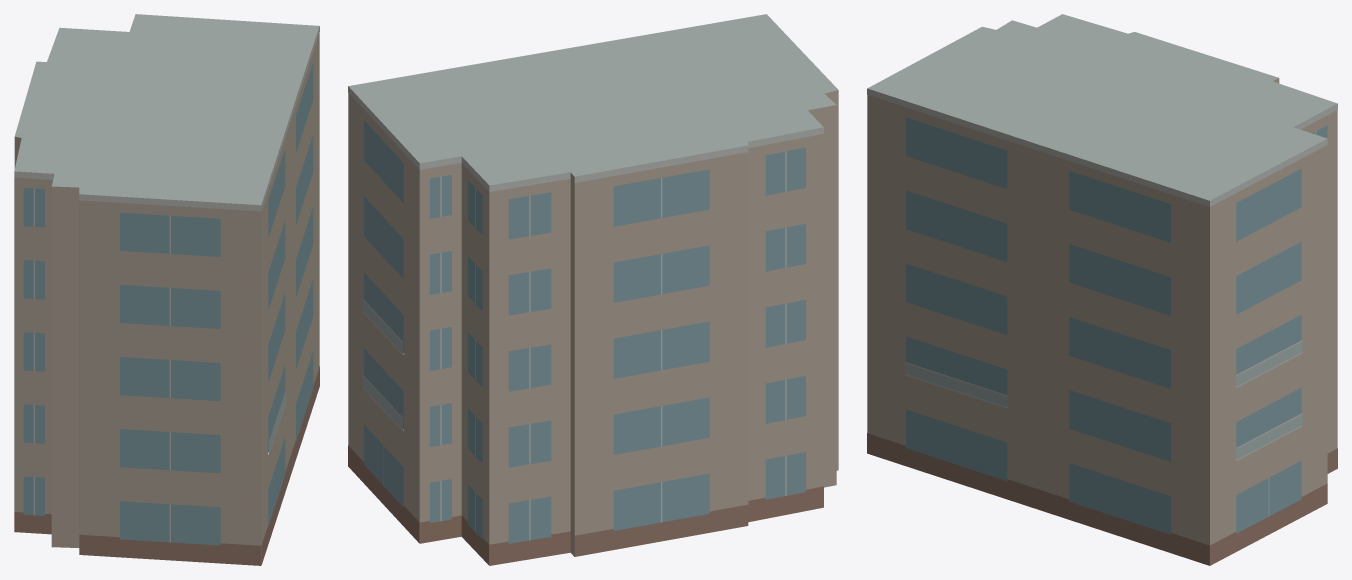
File: survey-upis-32884758.glb
3 renders of one model, left to right at view 1: azimuth 30°, elevation 25°; view 2: azimuth 150°, elevation 25°; view 3: azimuth 270°, elevation 25°, orthographic. The views are drawn at different scales.
Parts seen in each view (by area): view 1: survey-upis-32884758.tmp; view 2: survey-upis-32884758.tmp; view 3: survey-upis-32884758.tmp.
Part boxes in pixels (box(x1,y1,x2,y2)): survey-upis-32884758.tmp: box(14, 14, 319, 565); survey-upis-32884758.tmp: box(348, 14, 838, 565); survey-upis-32884758.tmp: box(867, 14, 1337, 565).
Size of the model in its own units: 15.7 by 14.3 by 16.71.
